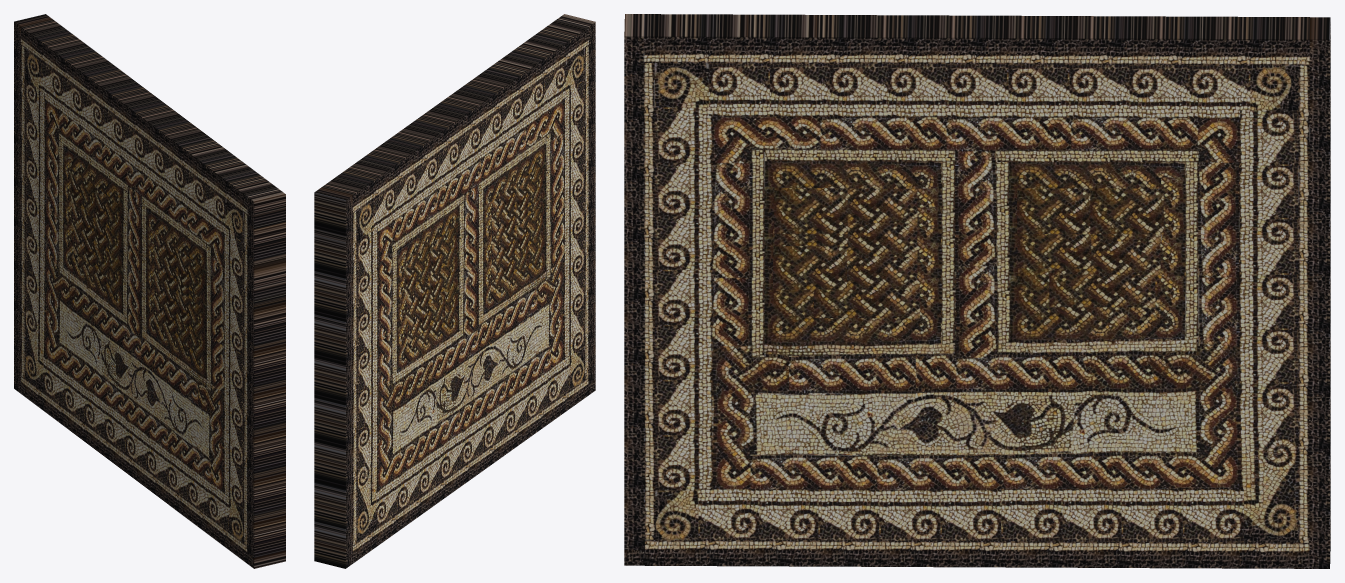
Rendered from alternate-compressed.glb.
3 renders of one model, left to right at view 1: azimuth 30°, elevation 25°; view 2: azimuth 150°, elevation 25°; view 3: azimuth 270°, elevation 25°, orthographic. The views are drawn at different scales.
Visible parts, largest first — view 1: aaaaaaa; view 2: aaaaaaa; view 3: aaaaaaa.
Part boxes in pixels (box(x1,y1,x2,y2)): aaaaaaa: box(14, 14, 285, 568); aaaaaaa: box(314, 14, 595, 568); aaaaaaa: box(624, 14, 1330, 568).
Bounding box in the file's own units: 0.4832 × 4.7 × 5.68.
Materials: 1 (1 with a texture image).
